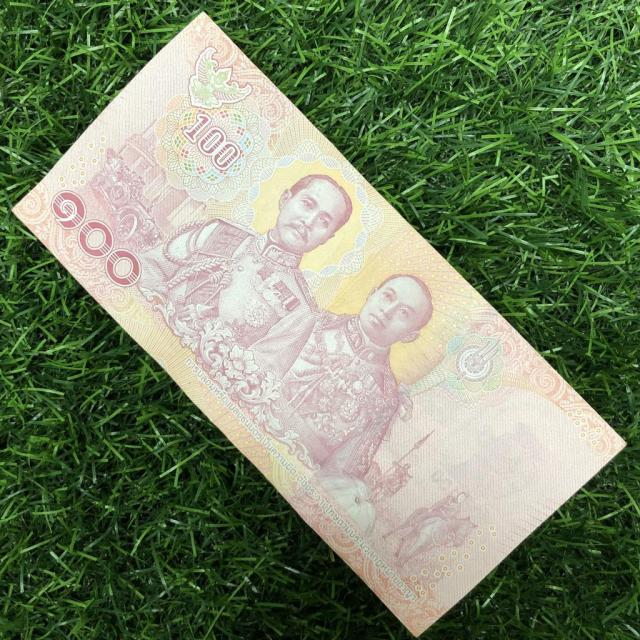THAI100: (12, 12, 627, 639)
